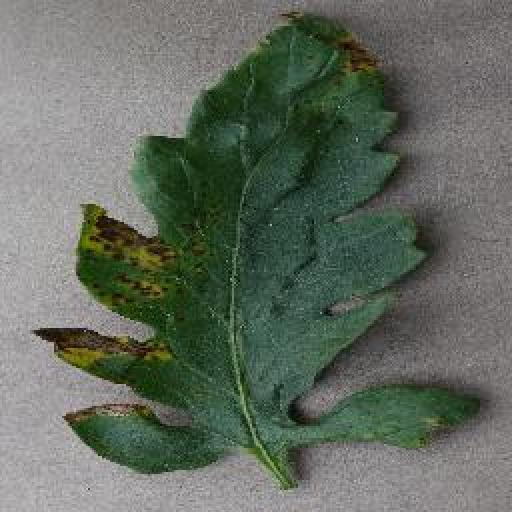Bacterial Spot: (36, 7, 489, 477)
